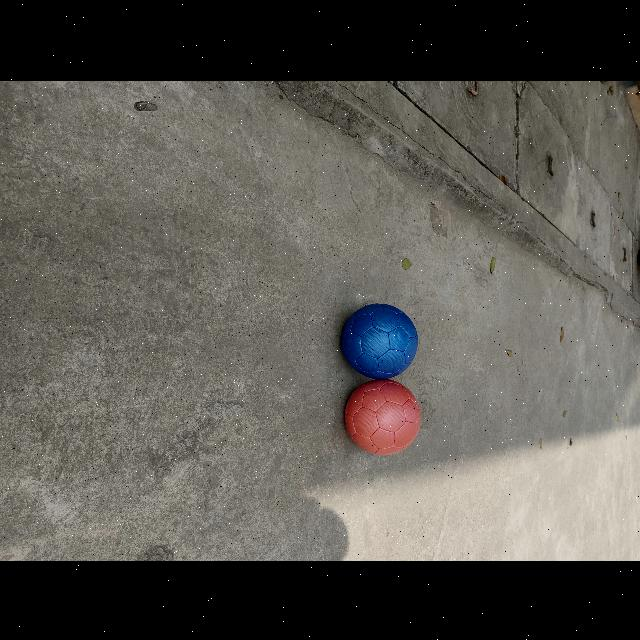B: (337, 301, 417, 379)
R: (340, 378, 420, 455)
